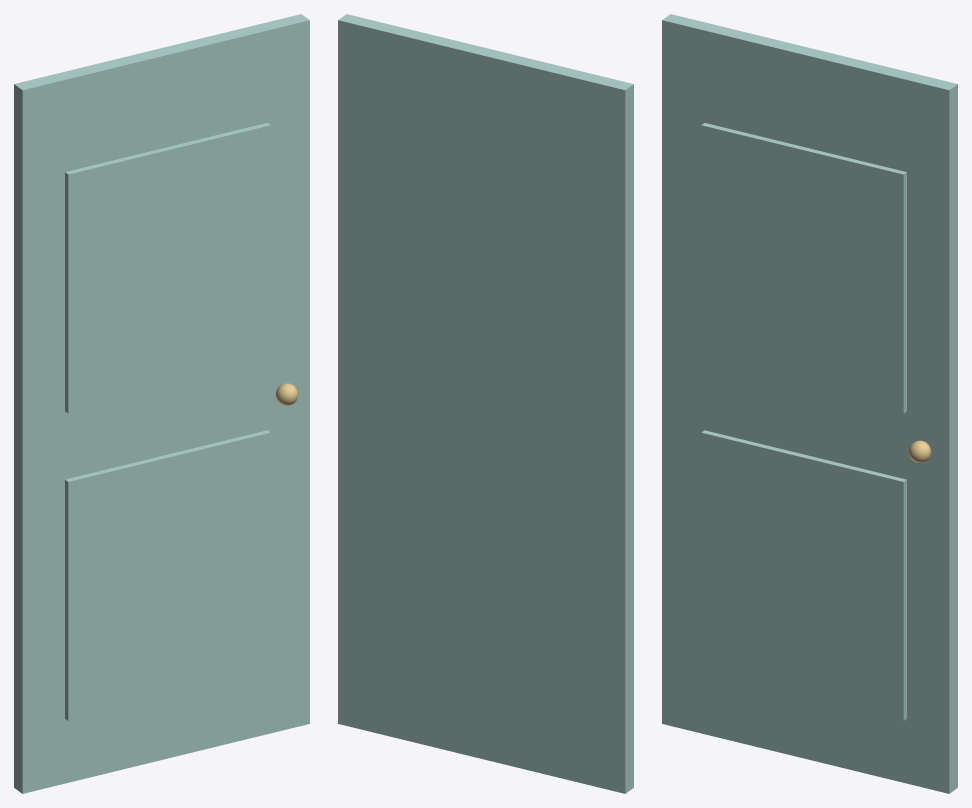
Rendered from door_leaf.glb.
3 views of the same model, side by side, from view 1: azimuth 30°, elevation 25°; view 2: azimuth 150°, elevation 25°; view 3: azimuth 330°, elevation 25° (orthographic).
Visible parts, largest first — view 1: door_leaf; view 2: door_leaf; view 3: door_leaf.
Boxes of the visible parts, <box> form: door_leaf: <box>14,14,309,793</box>; door_leaf: <box>338,14,633,793</box>; door_leaf: <box>662,14,957,793</box>.
Size of the model in its own units: 0.88 by 2.06 by 0.0925.
